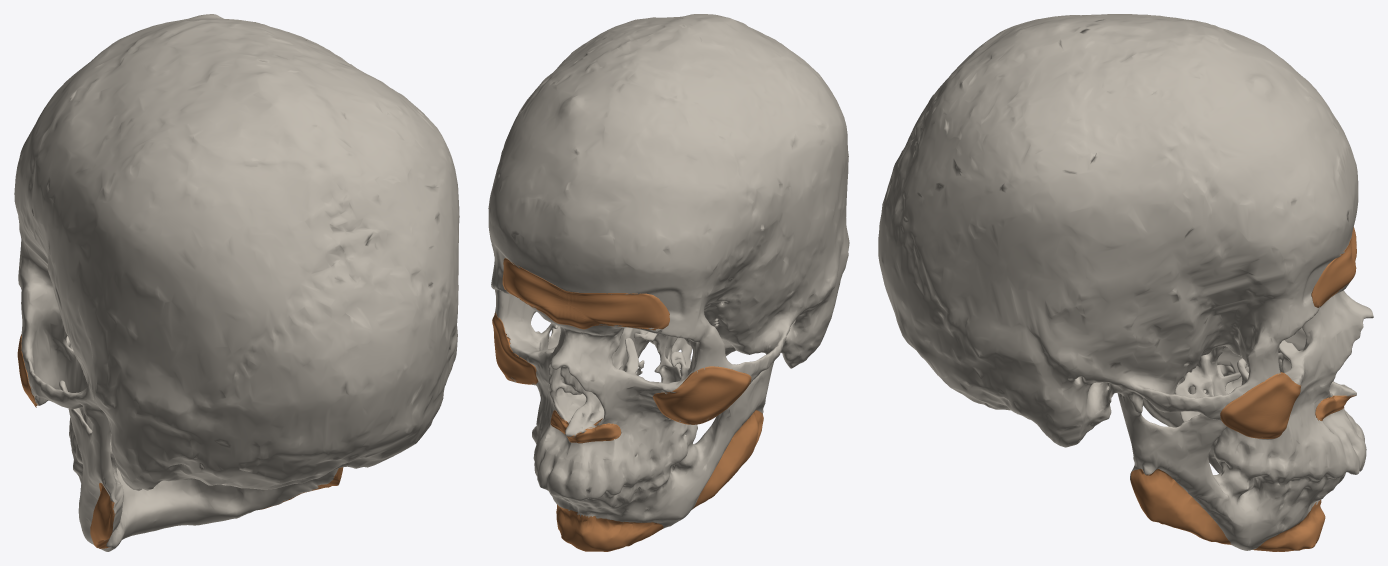
The model's file is peek-model.glb.
3 renders of one model, left to right at view 1: azimuth 30°, elevation 25°; view 2: azimuth 150°, elevation 25°; view 3: azimuth 270°, elevation 25°, orthographic. The views are drawn at different scales.
Parts seen in each view (by area): view 1: A42_baseline, jaw_R; view 2: A42_baseline, A49_brow, A49_zygoma_R, chin, jaw_R, A49_zygoma_L, A49_nasal; view 3: A42_baseline, jaw_L, A49_zygoma_L, chin, A49_brow.
Part boxes in pixels (x1,y1,x2,y2): A42_baseline: (14, 14, 459, 551); jaw_R: (90, 483, 115, 548); A42_baseline: (488, 14, 849, 528); A49_brow: (502, 258, 669, 330); A49_zygoma_R: (652, 366, 751, 424); chin: (556, 504, 663, 551); jaw_R: (692, 410, 763, 509); A49_zygoma_L: (492, 312, 538, 384); A49_nasal: (550, 410, 621, 443); A42_baseline: (878, 14, 1373, 550); jaw_L: (1130, 468, 1232, 544); A49_zygoma_L: (1220, 372, 1301, 438); chin: (1253, 500, 1325, 551); A49_brow: (1311, 227, 1356, 307).
Bounding box in the file's own units: 0.1346 × 0.2081 × 0.1823.
